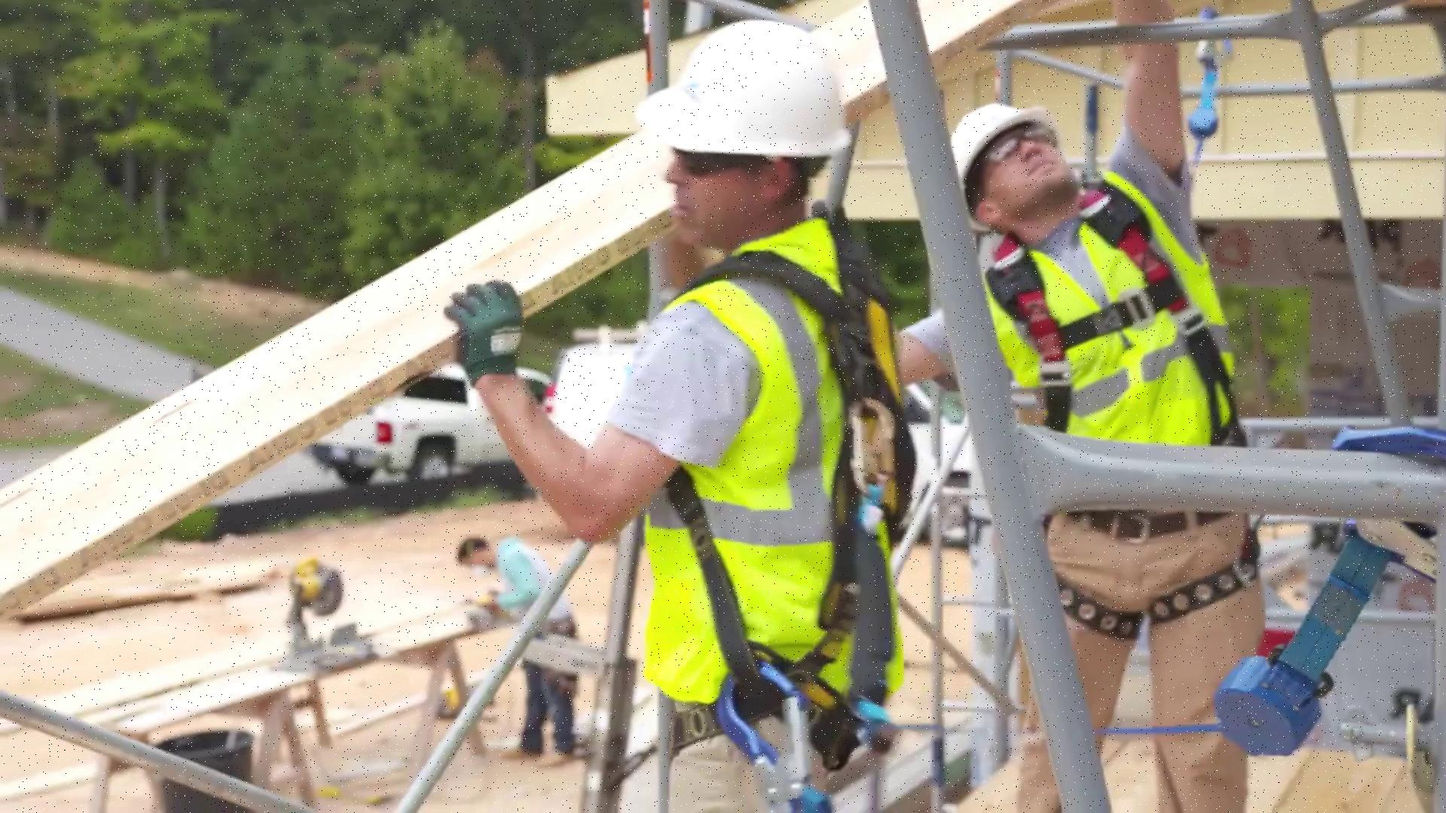Hard_hat: (638, 12, 849, 157), (942, 95, 1034, 180)
Vest: (626, 225, 890, 724), (1004, 177, 1210, 485)
